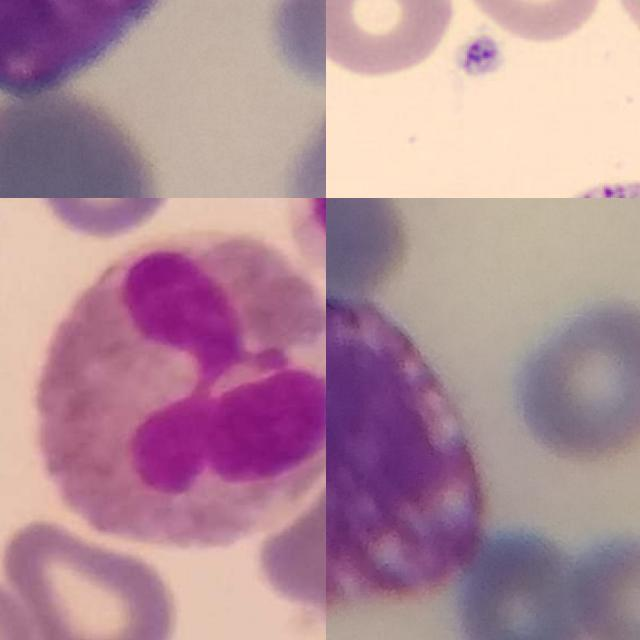Basophil: (326, 292, 483, 615), (0, 0, 198, 104)
Eosinophil: (33, 231, 326, 548)
Platelets: (455, 33, 505, 83)
RBC: (326, 0, 461, 81), (451, 0, 613, 45)
